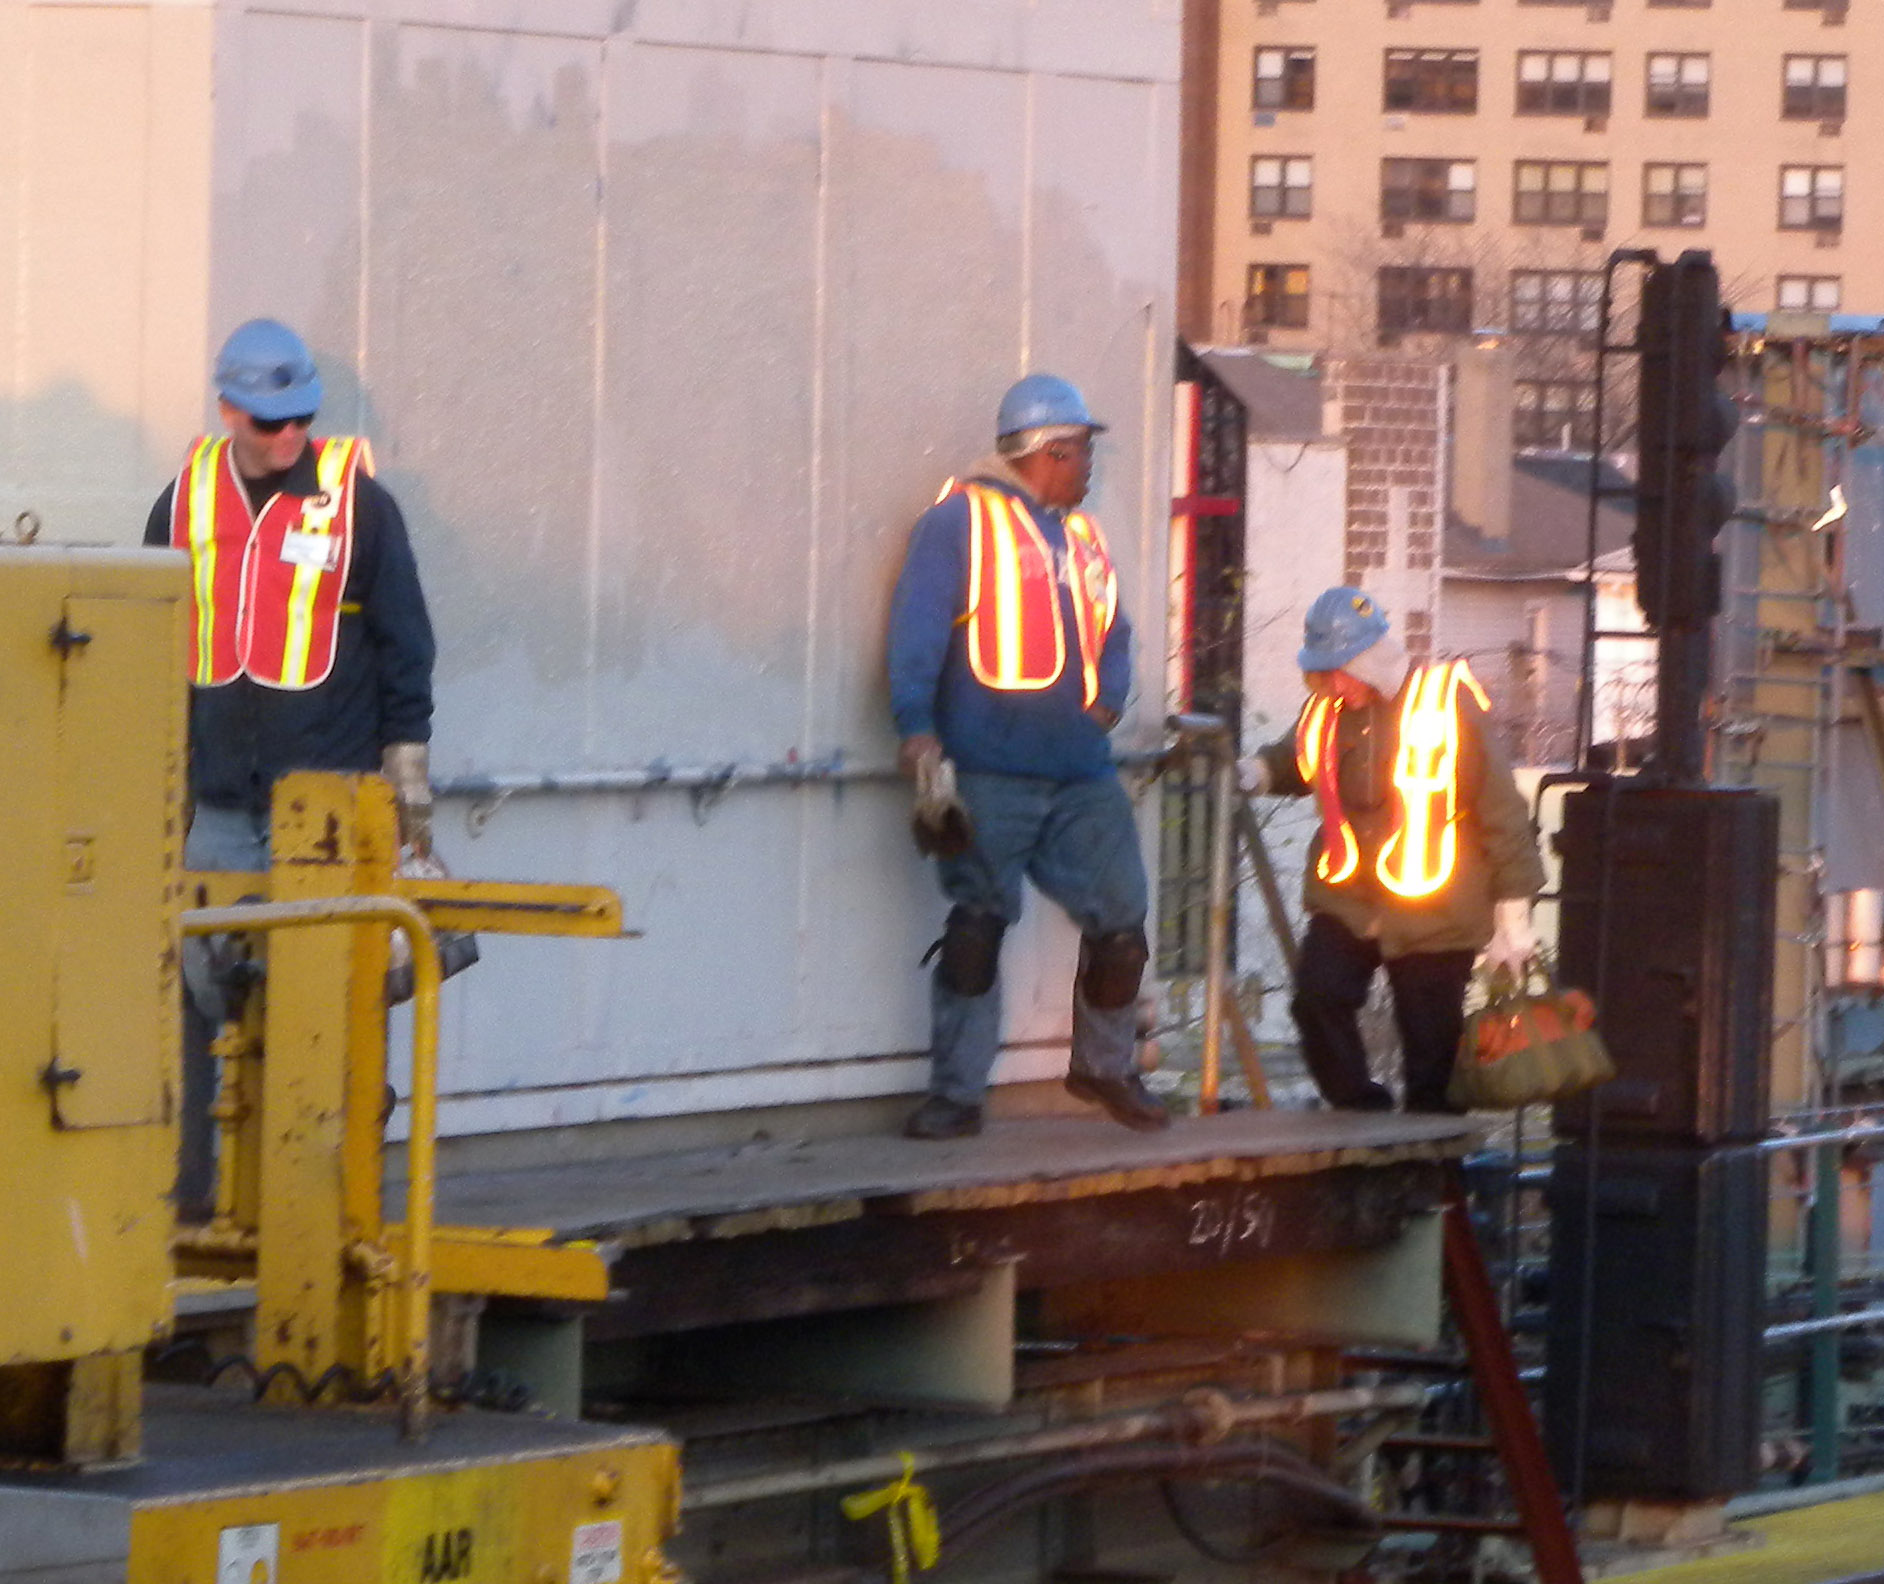With Helmet: (203, 314, 327, 488), (977, 365, 1115, 510), (1287, 592, 1405, 694)
